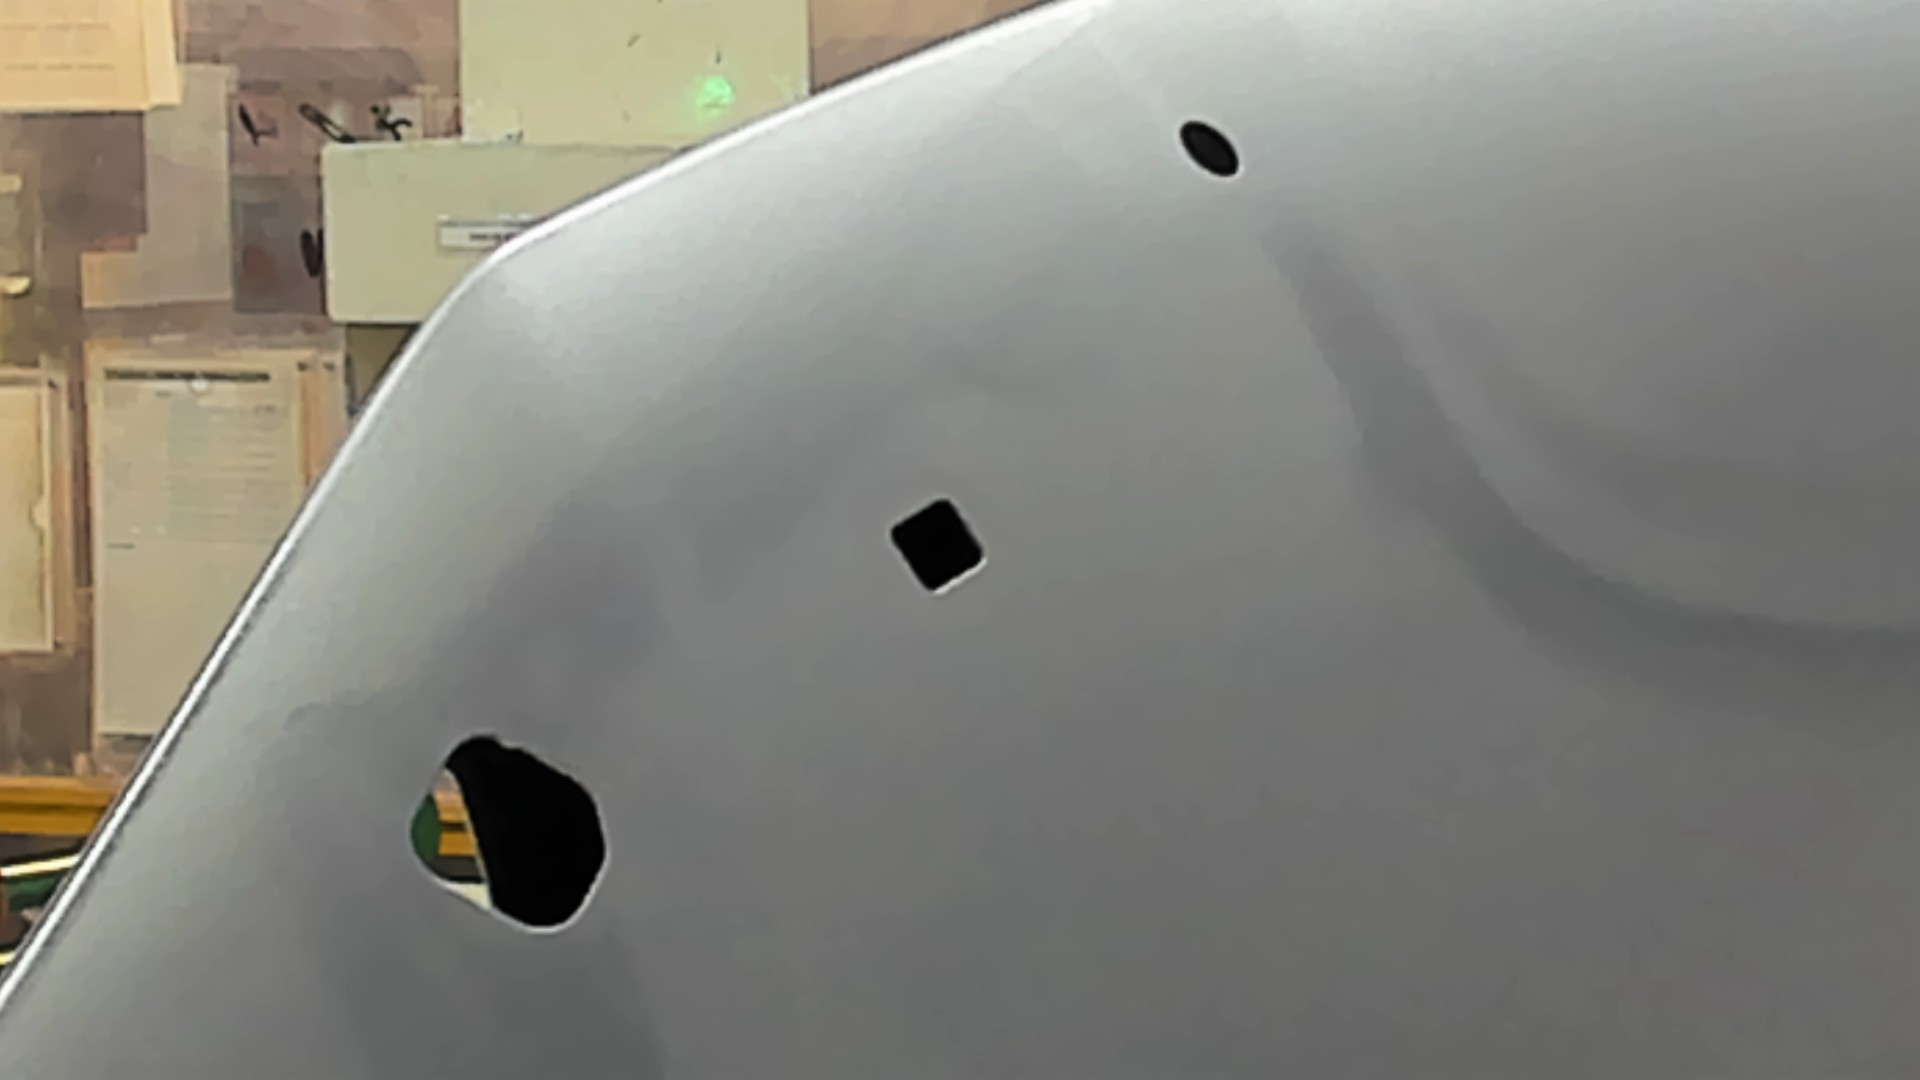chico: (1145, 95, 1280, 200)
grande: (365, 717, 633, 944)
mediano: (851, 476, 1027, 632)
